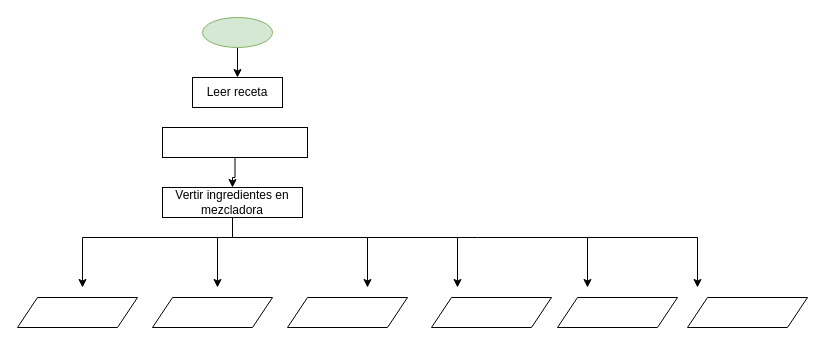
Some shapes in this 825 by 345 pixel diagram are drawn without their labels. Each missing label, with the centre of its shape:
comprar ingredientes faltantes: [235,142]
Inicio: [237,32]
